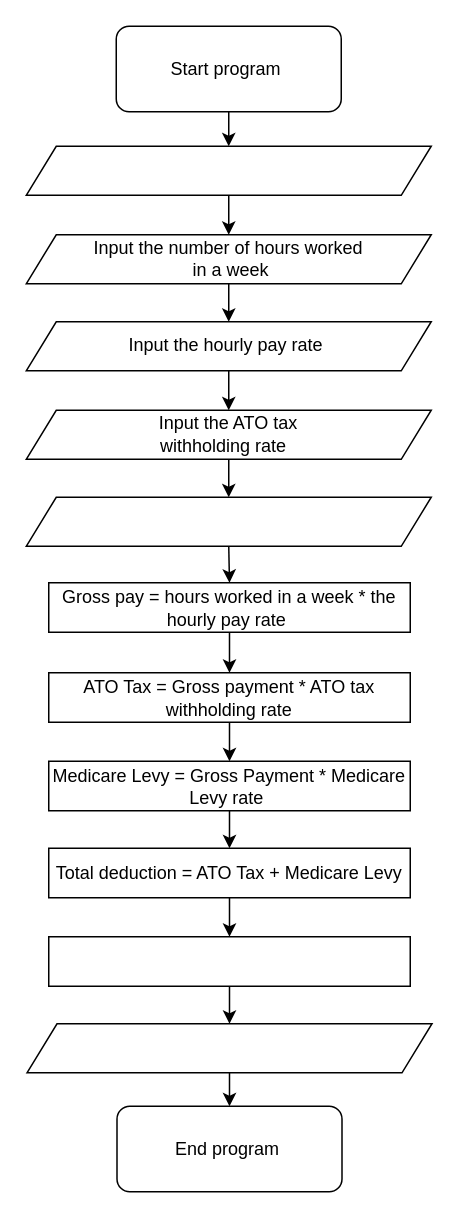
This 459x1218 diagram has some shape labels left out. The shapes that lost their labels are listed below. From the top down, each one's box as (x1, y1, x2, y2) in pixels, then its label:
(25, 145, 431, 195): Take the Employee's name
(25, 496, 431, 546): Input the Medicare Levy rate
(47, 935, 410, 986): Net Pay = Gross pay - Total deduction
(26, 1022, 432, 1073): Output the results
